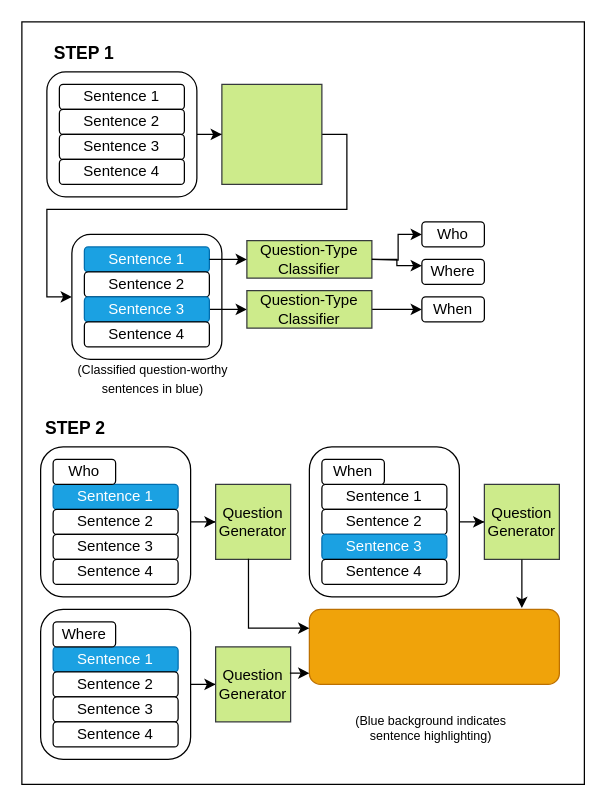
This 606x806 diagram has some shape labels left out. The shapes that lost their labels are listed below. From the top down, each one's centre as x and y in pixels, then its label:
At (271,133): "Question-Worthiness Classifier".
At (433,646): "Generated Questions".
